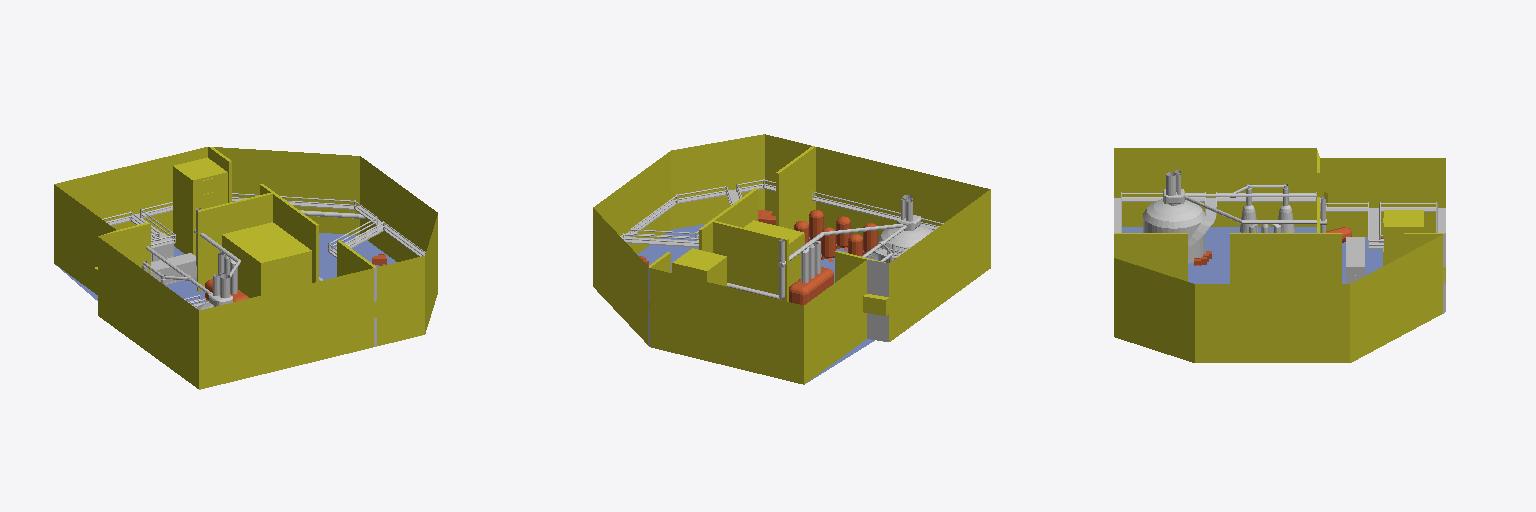
The model's file is fack.obj.
3 renders of one model, left to right at view 1: azimuth 30°, elevation 25°; view 2: azimuth 150°, elevation 25°; view 3: azimuth 270°, elevation 25°, orthographic.
Parts seen in each view (by area): view 1: factory_無標題.002; view 2: factory_無標題.002; view 3: factory_無標題.002.
Part boxes in pixels (bbox=[...]): factory_無標題.002: bbox=[54, 147, 437, 389]; factory_無標題.002: bbox=[593, 134, 990, 384]; factory_無標題.002: bbox=[1114, 148, 1445, 362].
Size of the model in its own units: 61.73 by 16.96 by 63.49.